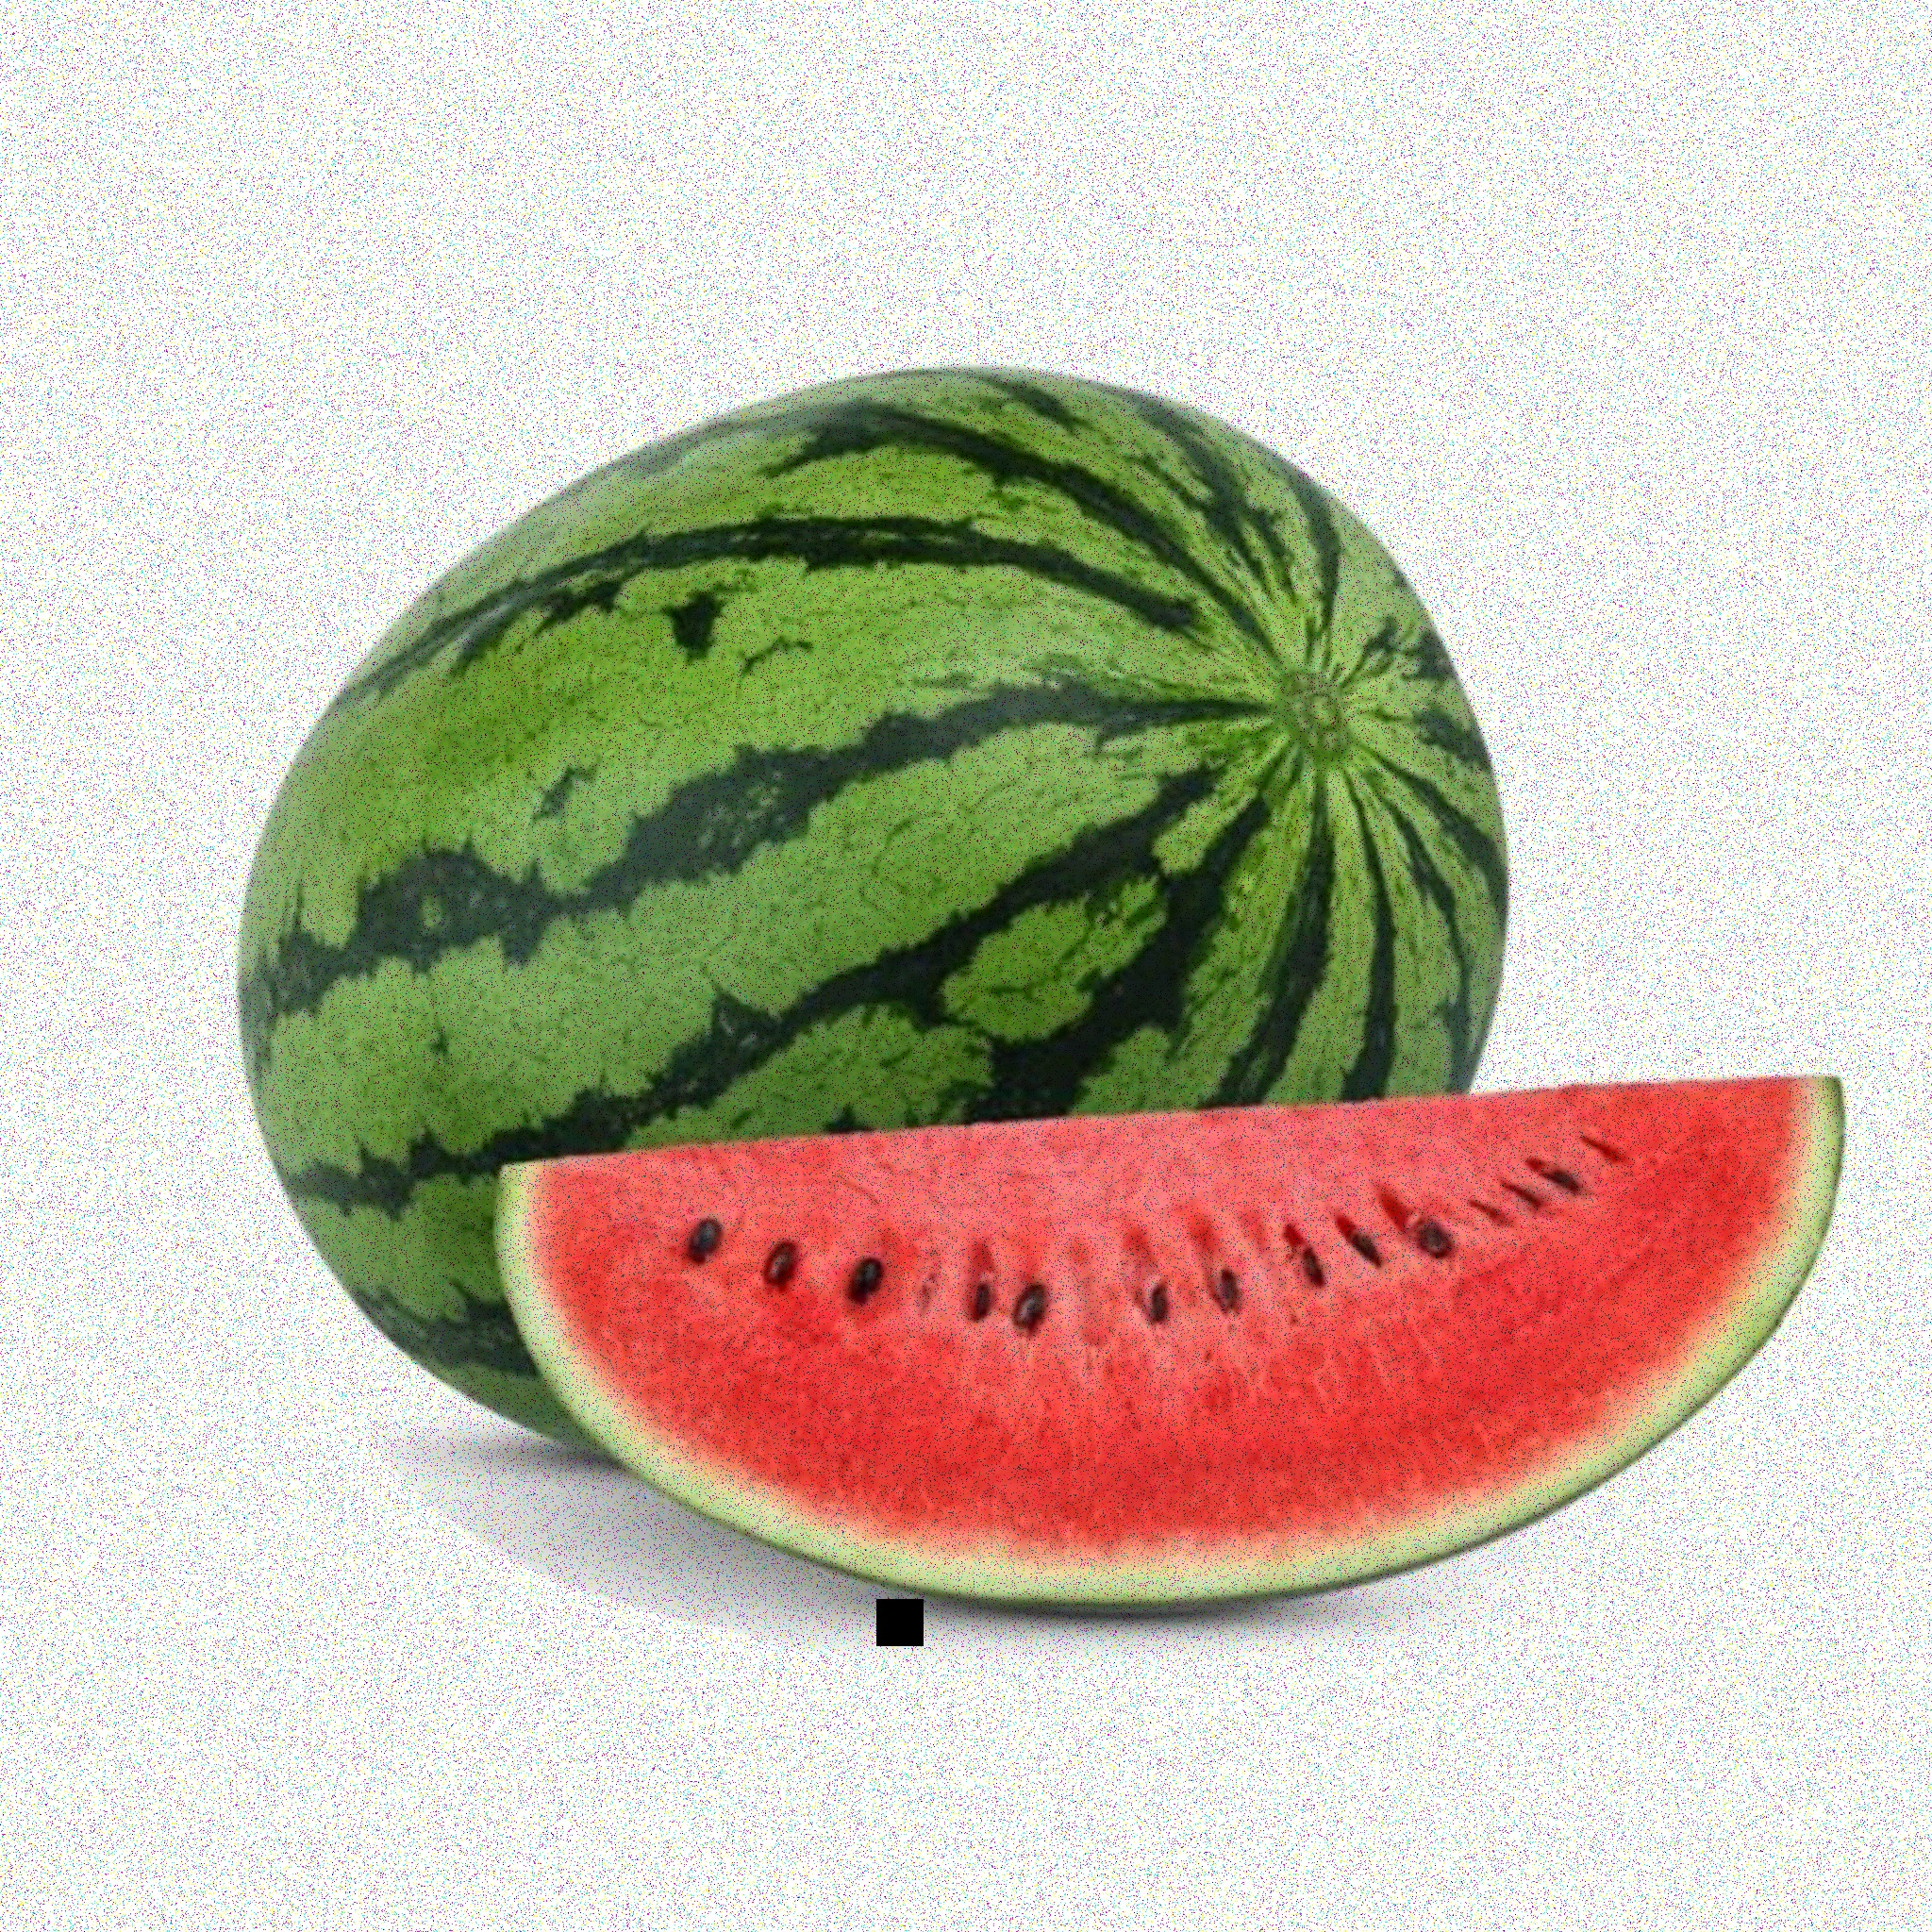watermelon: (191, 368, 1599, 1491)
